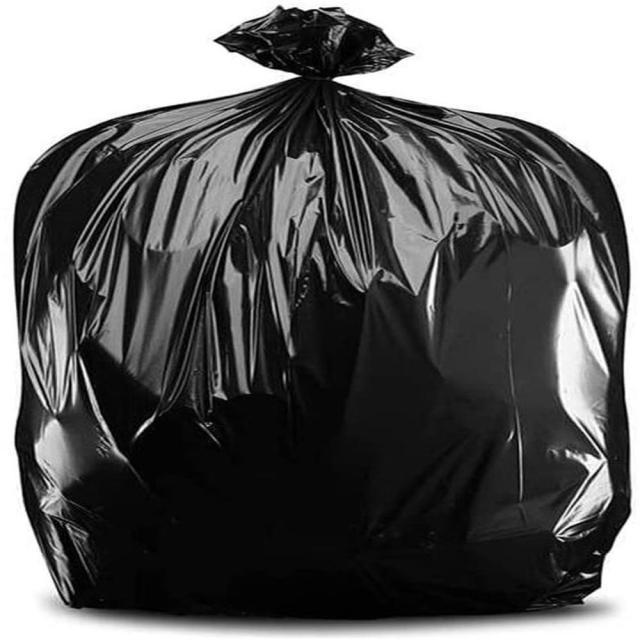Garbage_Bag: (31, 5, 624, 622)
